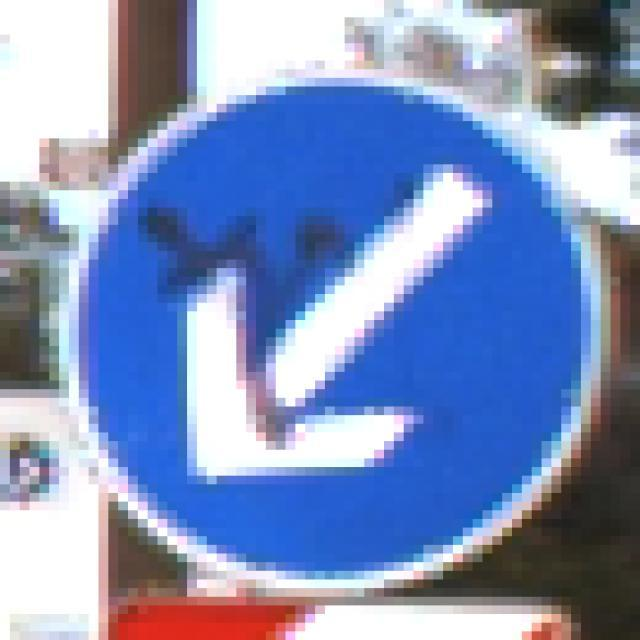compulsary keep left: (57, 63, 611, 591)
